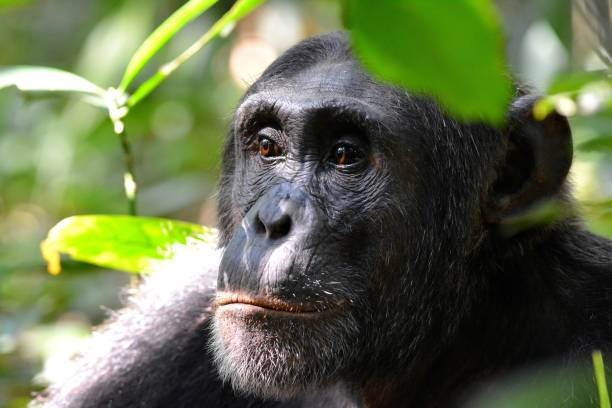chimpanzee: (161, 21, 588, 408)
